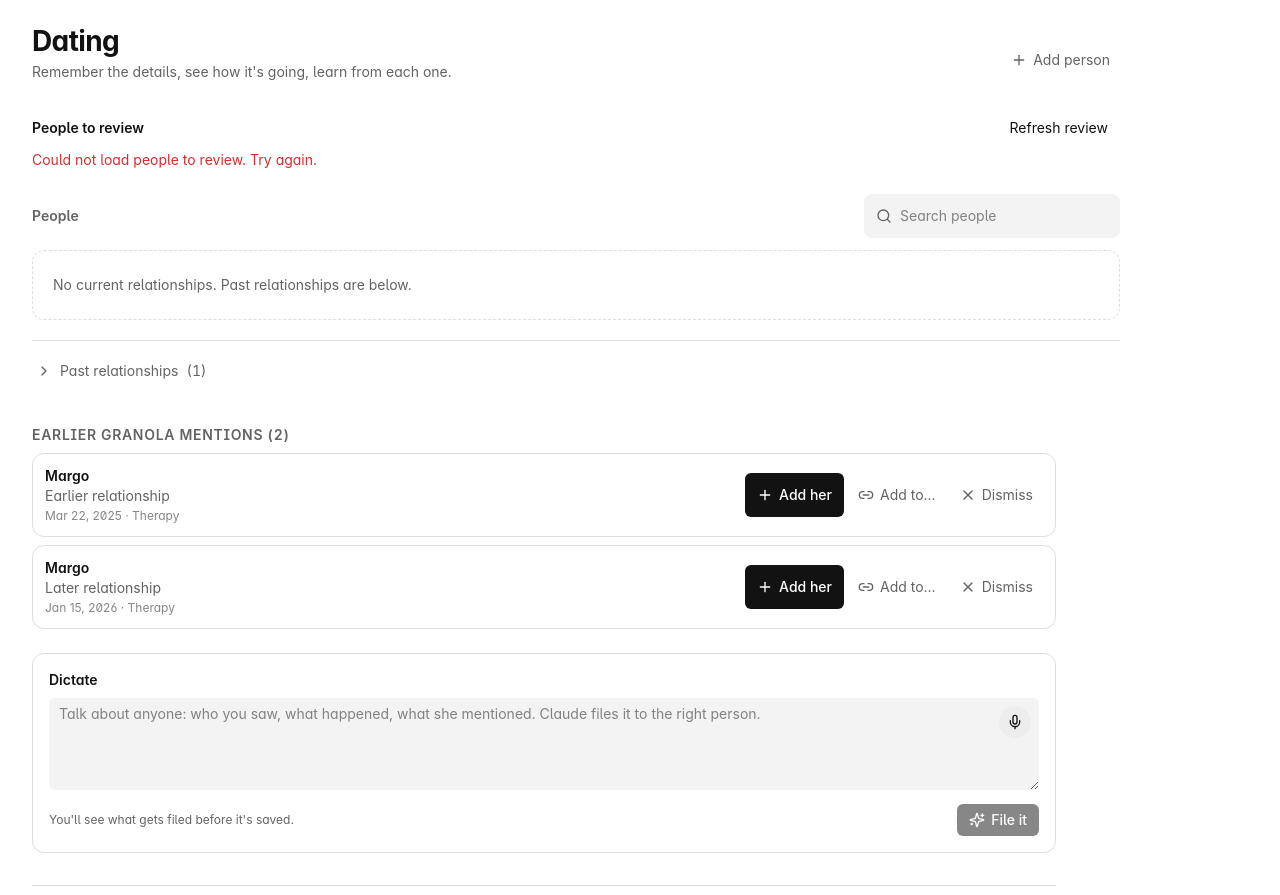
Granola suggestion review › keeps server errors beside the add controls and releases them for retry
Click the button "Add her" in the row of "Earlier relationship" at (795,495), box top-left (745, 473), bottom-right (844, 517)
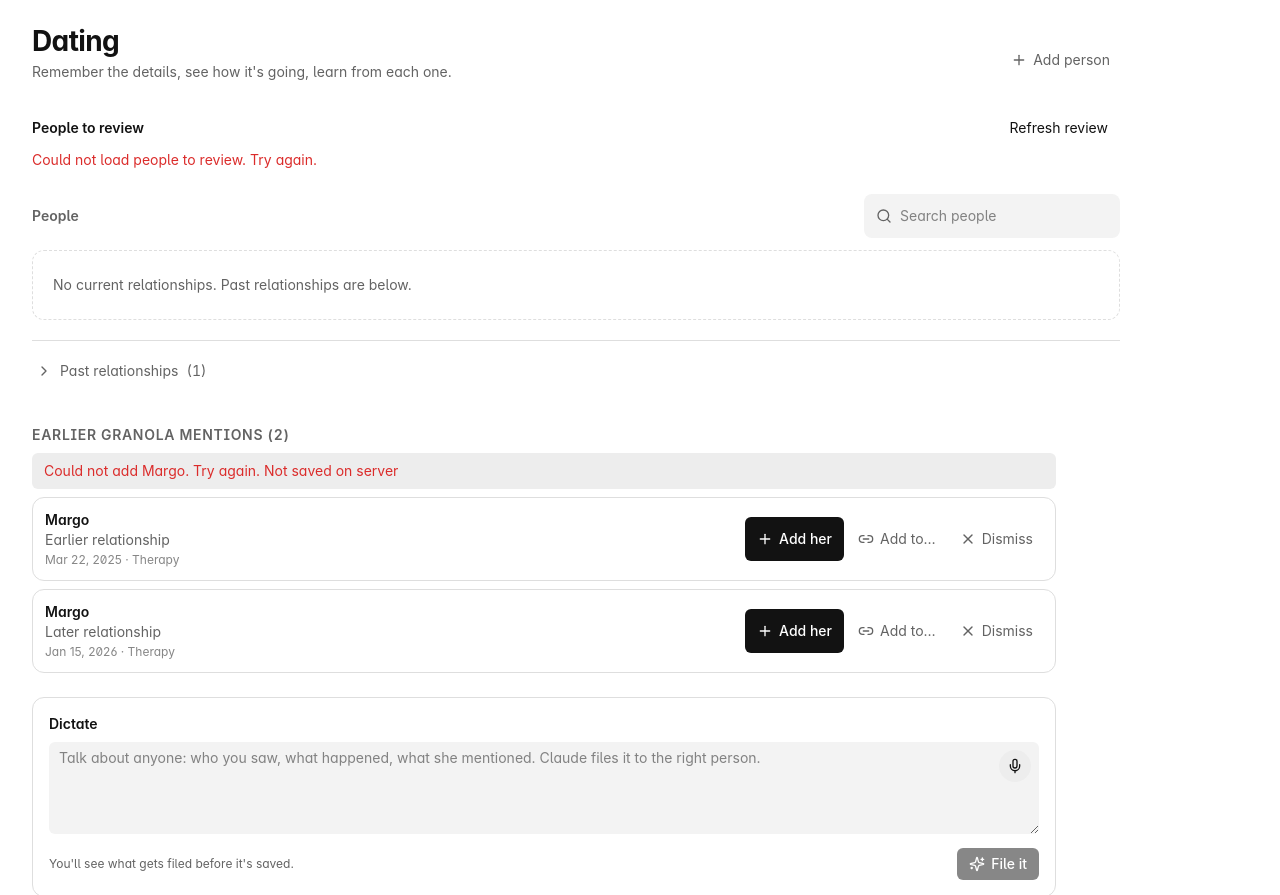
Expected: the button "Add her" in the row of "Earlier relationship" is enabled, top-left (745, 517), bottom-right (844, 561)
Expected: the message "Could not add Margo. Try again. Not saved on server" is shown, top-left (32, 453), bottom-right (1056, 489)
